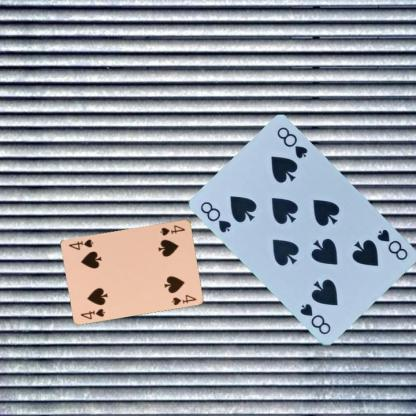4s: (158, 222, 186, 236), (78, 306, 106, 320)
8s: (374, 226, 409, 262), (198, 199, 234, 234)
